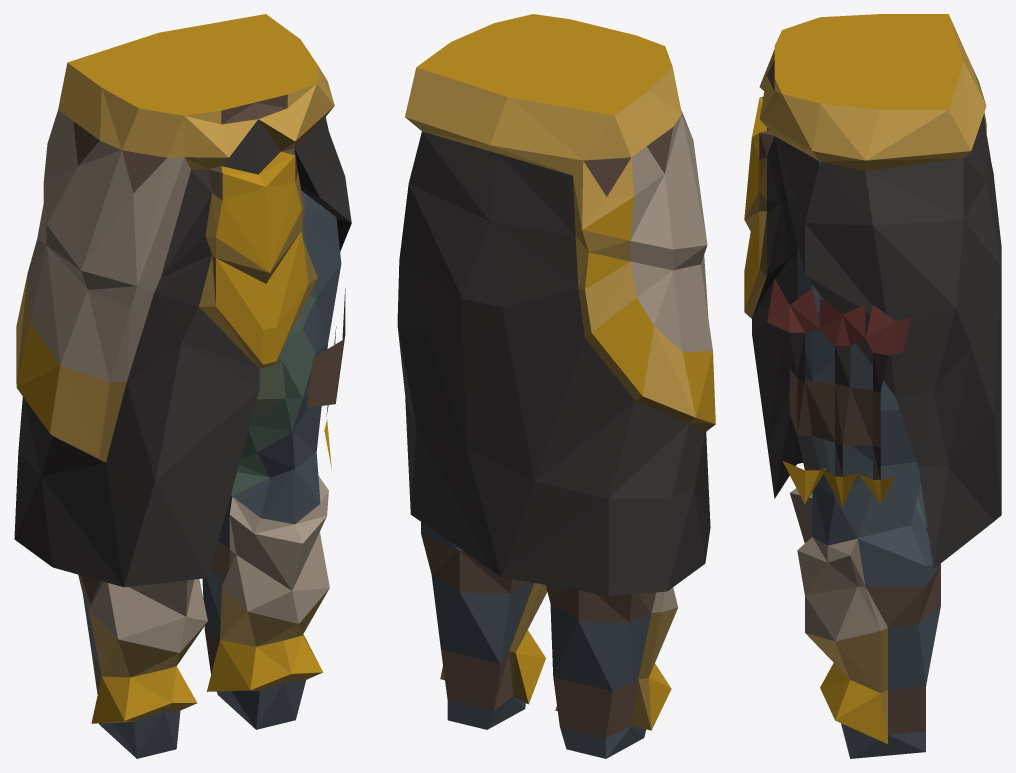
Rendered from player_masori_chaps__f_.glb.
3 renders of one model, left to right at view 1: azimuth 30°, elevation 25°; view 2: azimuth 150°, elevation 25°; view 3: azimuth 270°, elevation 25°, orthographic.
Bounding box in the file's own units: 47 × 95.99 × 34.
Materials: 1 (1 with a texture image).
